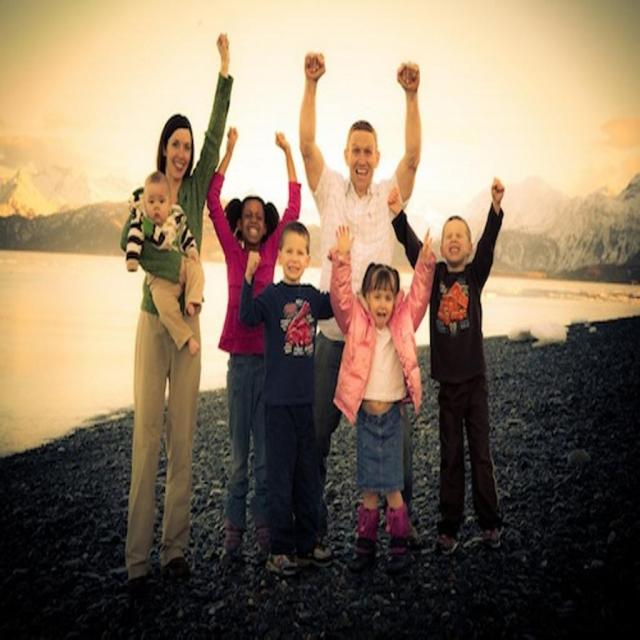nomask: (348, 130, 374, 188), (282, 233, 306, 279), (168, 129, 190, 179), (370, 278, 392, 326), (443, 218, 467, 262), (242, 199, 264, 244), (144, 183, 168, 222)
